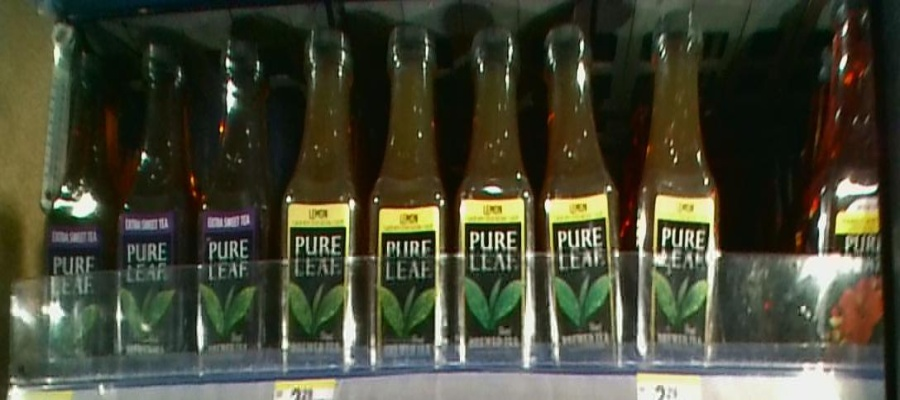bottle: (633, 14, 726, 373), (541, 4, 627, 377), (273, 23, 361, 374), (454, 12, 539, 369), (367, 22, 452, 373), (814, 1, 898, 354), (194, 21, 269, 373), (117, 25, 191, 380), (46, 25, 112, 377)
